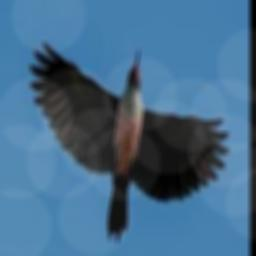Woodpecker: (30, 42, 229, 242)
